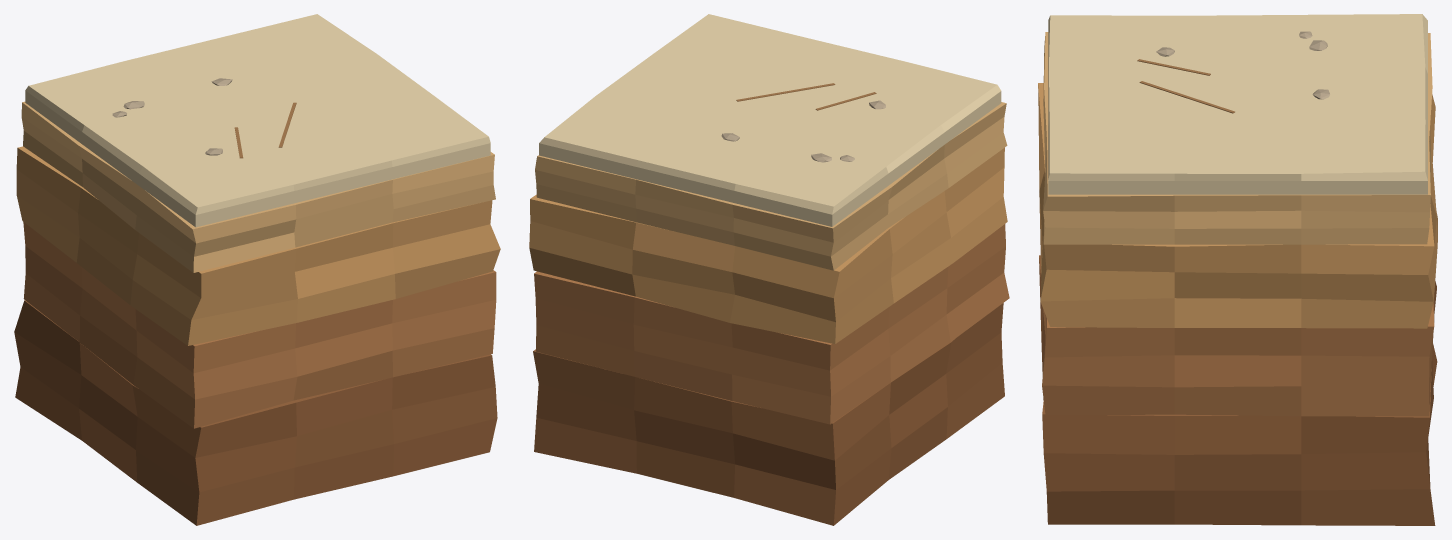
File: cliff.glb
3 renders of one model, left to right at view 1: azimuth 30°, elevation 25°; view 2: azimuth 150°, elevation 25°; view 3: azimuth 270°, elevation 25°, orthographic. The views are drawn at different scales.
Visible parts, largest first — view 1: cliff; view 2: cliff; view 3: cliff.
Part boxes in pixels (<box>): cliff: <box>14,14,500,525</box>; cliff: <box>529,14,1009,525</box>; cliff: <box>1038,14,1437,525</box>.
Size of the model in its own units: 1.06 by 1.03 by 1.05.
